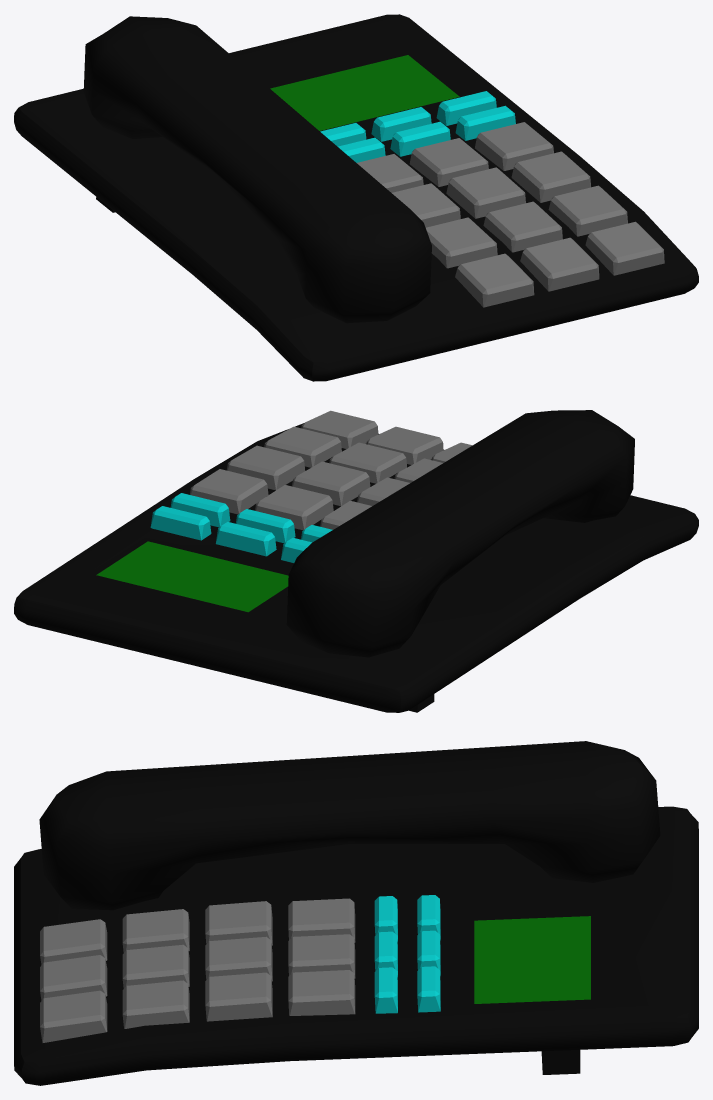
File: WW_phone_prop.fbx
3 views of the same model, one above another, from view 1: azimuth 30°, elevation 25°; view 2: azimuth 150°, elevation 25°; view 3: azimuth 270°, elevation 25° (orthographic). The views are drawn at different scales.
Parts seen in each view (by area): view 1: phone_stand, phone, button_star, button_0, button_hash, button_8, button_9, button_5, button_6, button_7, button_2, button_3 (+8 smaller); view 2: phone_stand, phone, button_3, button_2, button_5, button_6, button_9, button_8, button_0, button_hash, button_top_3, button_top_2 (+6 smaller); view 3: phone_stand, phone, button_6, button_3, button_hash, button_9, button_2, button_4, button_1, button_5, button_8, button_star (+8 smaller).
Part boxes in pixels (x1,y1,x2,y2): phone_stand: (14, 14, 698, 381); phone: (83, 16, 431, 323); button_star: (455, 253, 534, 307); button_0: (520, 237, 599, 291); button_hash: (585, 221, 664, 275); button_8: (483, 201, 562, 252); button_9: (548, 185, 627, 236); button_5: (446, 167, 525, 218); button_6: (511, 151, 590, 202); button_7: (426, 217, 497, 268); button_2: (409, 138, 488, 186); button_3: (475, 122, 553, 170); phone_stand: (14, 423, 698, 712); phone: (286, 410, 634, 657); button_3: (190, 469, 268, 514); button_2: (255, 485, 333, 530); button_5: (292, 461, 370, 506); button_6: (226, 445, 305, 490); button_9: (264, 426, 341, 467); button_8: (329, 442, 406, 483); button_0: (366, 426, 443, 464); button_hash: (301, 410, 378, 448); button_top_3: (150, 506, 211, 540); button_top_2: (215, 522, 276, 556); phone_stand: (14, 806, 698, 1085); phone: (39, 741, 660, 910); button_6: (205, 972, 272, 1021); button_3: (288, 970, 355, 1015); button_hash: (40, 990, 107, 1042); button_9: (122, 980, 189, 1028); button_2: (288, 934, 355, 978); button_4: (205, 901, 272, 945); button_1: (288, 898, 355, 942); button_5: (205, 936, 272, 981); button_8: (122, 944, 189, 988); button_star: (40, 919, 107, 964).
Bounding box in the file's own units: 15.06 × 5.57 × 19.97.
